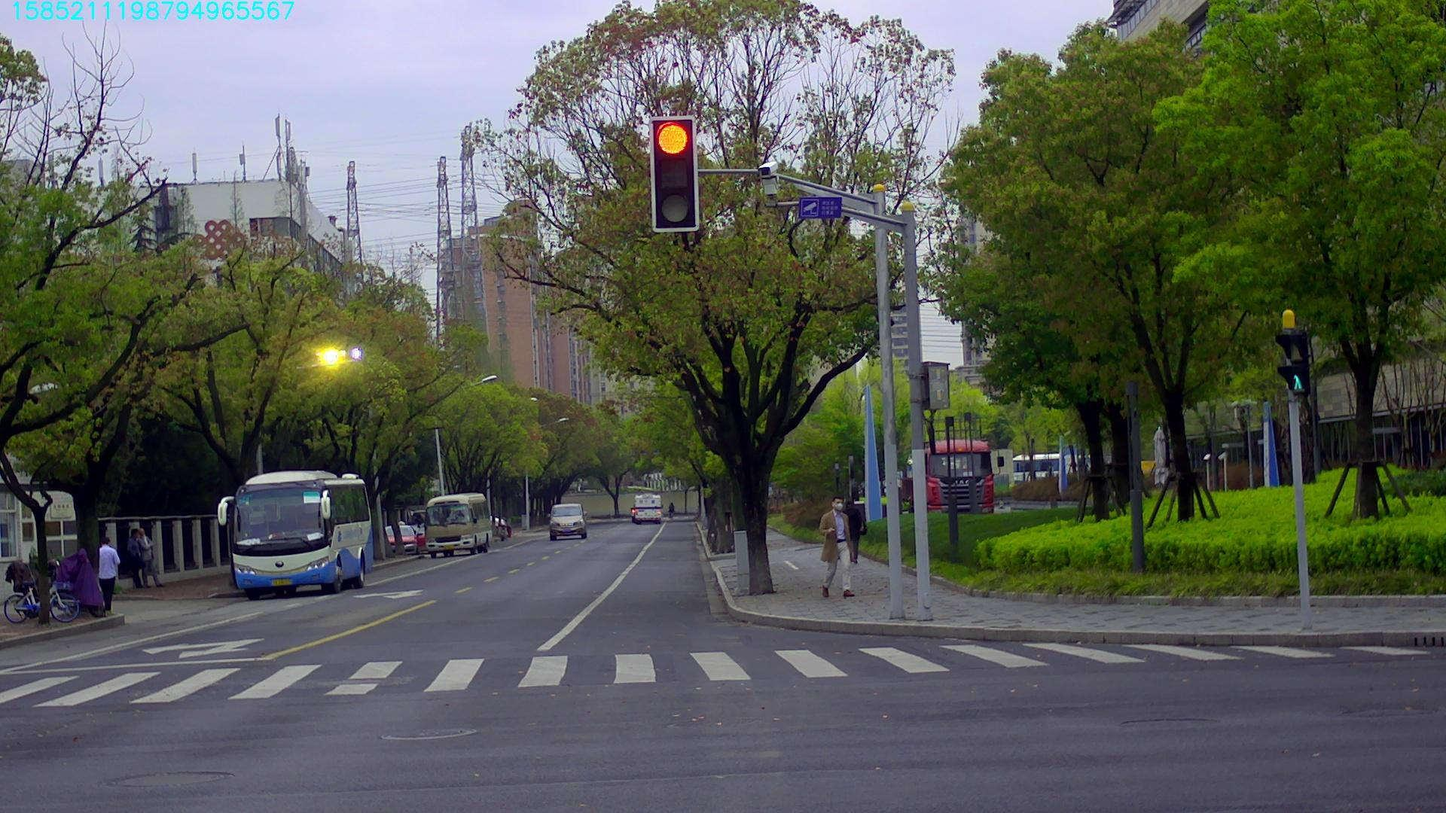red: (651, 118, 697, 229)
